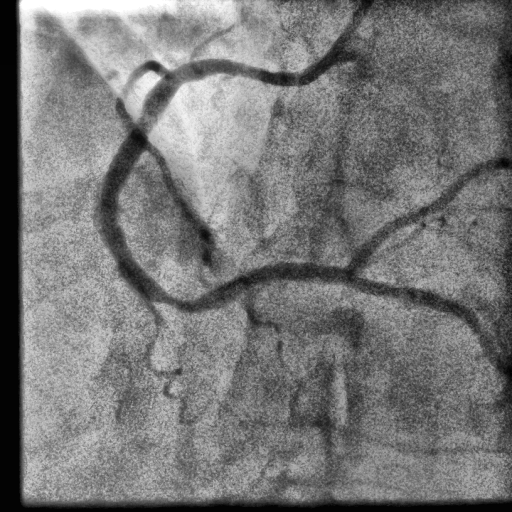pborca: (347, 159, 511, 273)
pda: (348, 275, 512, 375)
rca: (100, 45, 354, 314)
